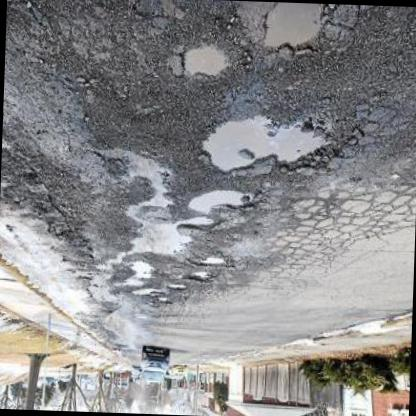pothole: (197, 115, 333, 180), (256, 3, 326, 60), (185, 191, 256, 220), (180, 48, 230, 82), (194, 256, 232, 271), (178, 220, 214, 232), (188, 271, 212, 286), (165, 284, 187, 294)
